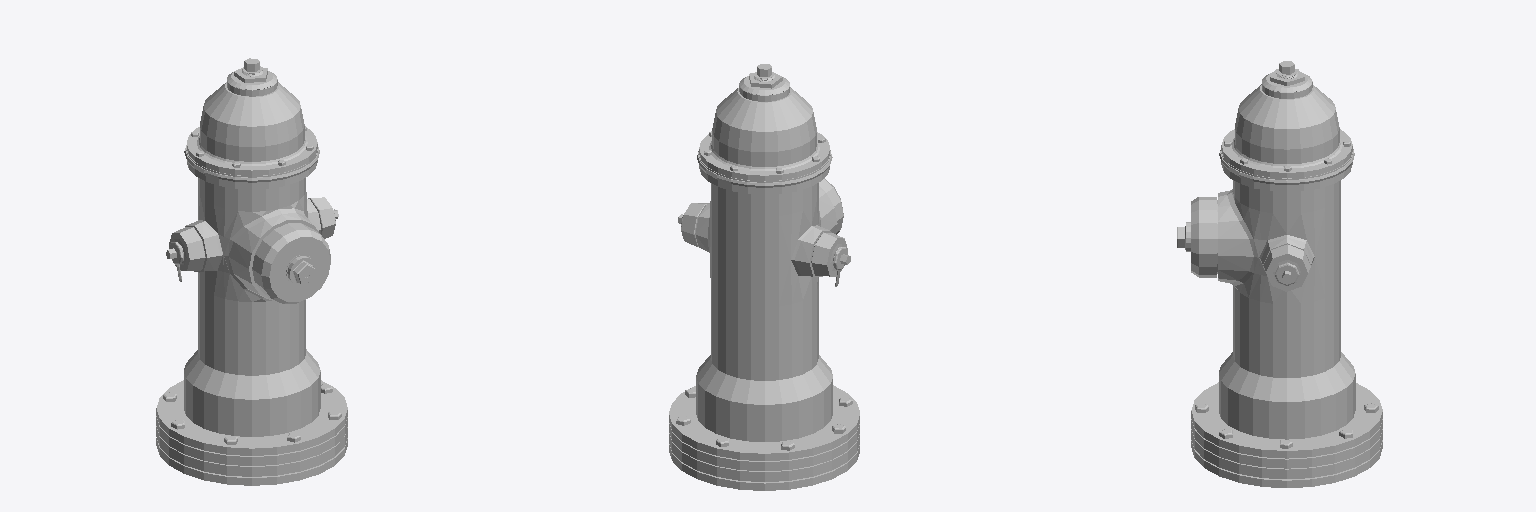
Rendered from FireHydrantLoPoly.obj.
3 renders of one model, left to right at view 1: azimuth 30°, elevation 25°; view 2: azimuth 150°, elevation 25°; view 3: azimuth 270°, elevation 25°, orthographic.
Visible parts, largest first — view 1: group1_nurbsCircle1, textureEditorIsolateSelectSet group1_nurbsCircle1; view 2: group1_nurbsCircle1, textureEditorIsolateSelectSet group1_nurbsCircle1; view 3: group1_nurbsCircle1, textureEditorIsolateSelectSet group1_nurbsCircle1.
Boxes of the visible parts, x1,y1,x2,y2 form: group1_nurbsCircle1: [156, 58, 347, 485]; textureEditorIsolateSelectSet group1_nurbsCircle1: [166, 197, 338, 270]; group1_nurbsCircle1: [669, 64, 859, 490]; textureEditorIsolateSelectSet group1_nurbsCircle1: [678, 203, 850, 276]; group1_nurbsCircle1: [1177, 61, 1382, 487]; textureEditorIsolateSelectSet group1_nurbsCircle1: [1263, 244, 1310, 291].
Size of the model in its own units: 36.9 by 80.51 by 39.1.